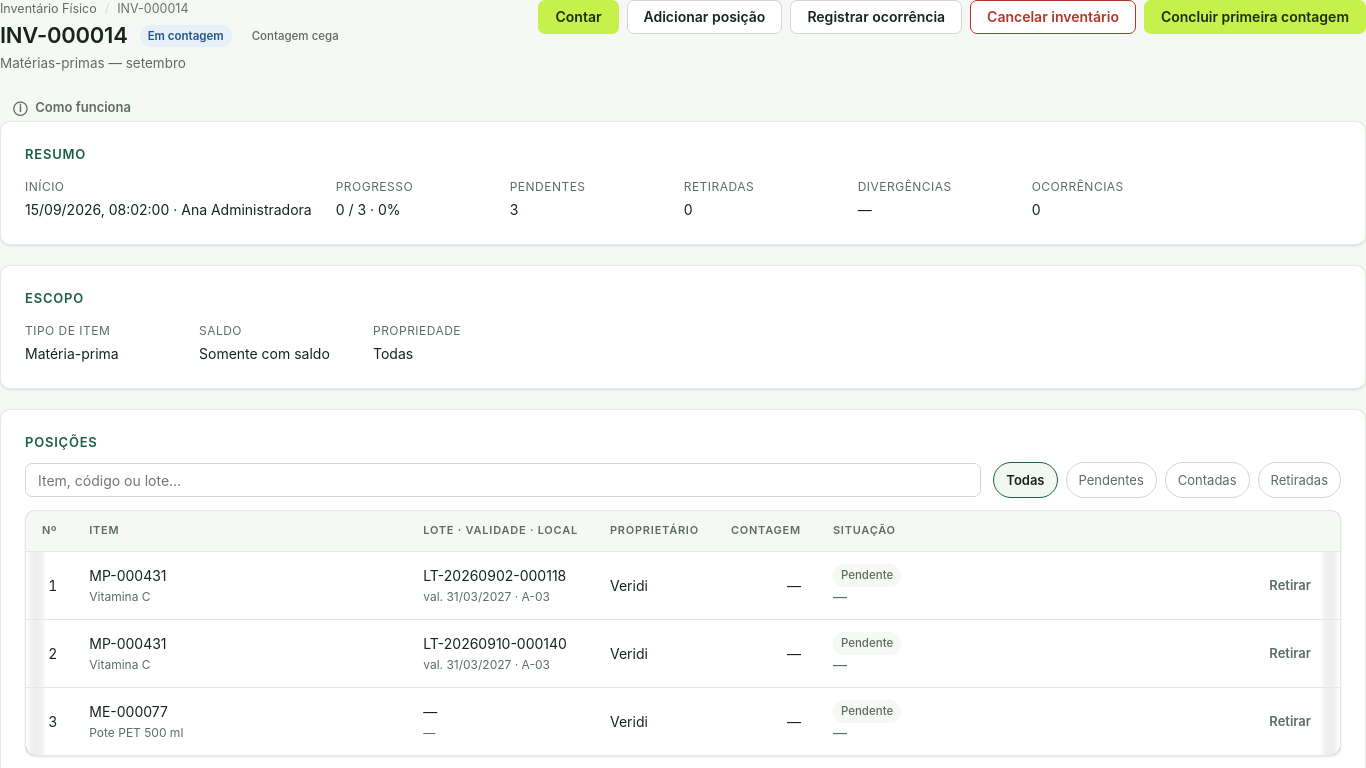
Test: detalhe do inventário — ocorrência, cancelar e concluir › cancelar explica o que acontece, exige motivo e deixa somente leitura
This screenshot has width=1366, height=768.
Click the button "Cancelar inventário" at (1053, 17), box [970, 0, 1136, 34]
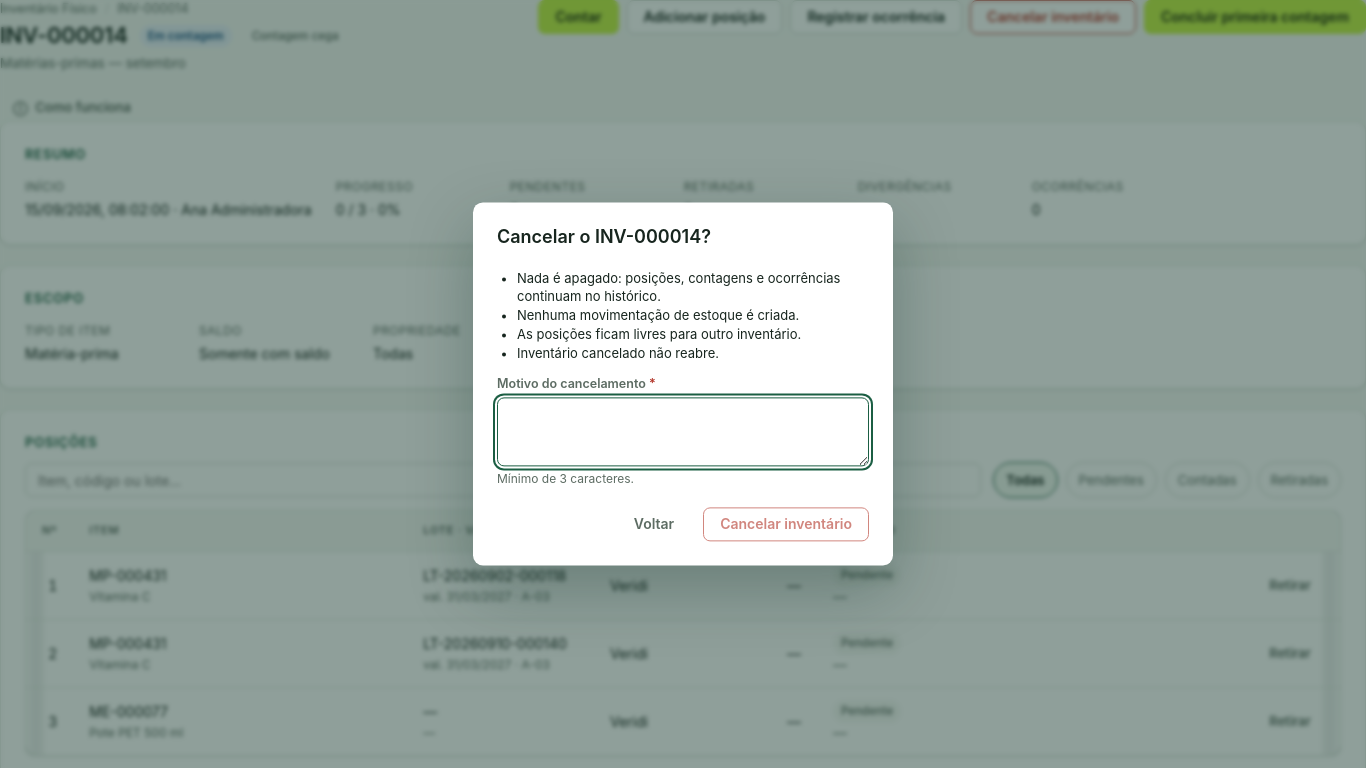
Check: the dialog shows "Nada é apagado", box [517, 270, 840, 305]
Check: the dialog shows "Nenhuma movimentação de estoque é criada.", box [517, 308, 799, 324]
Check: the dialog shows "As posições ficam livres para outro inventário.", box [517, 326, 801, 342]
Type "Escopo errado" into the text box labelled "Motivo do cancelamento *" at (683, 432), box [497, 397, 869, 466]
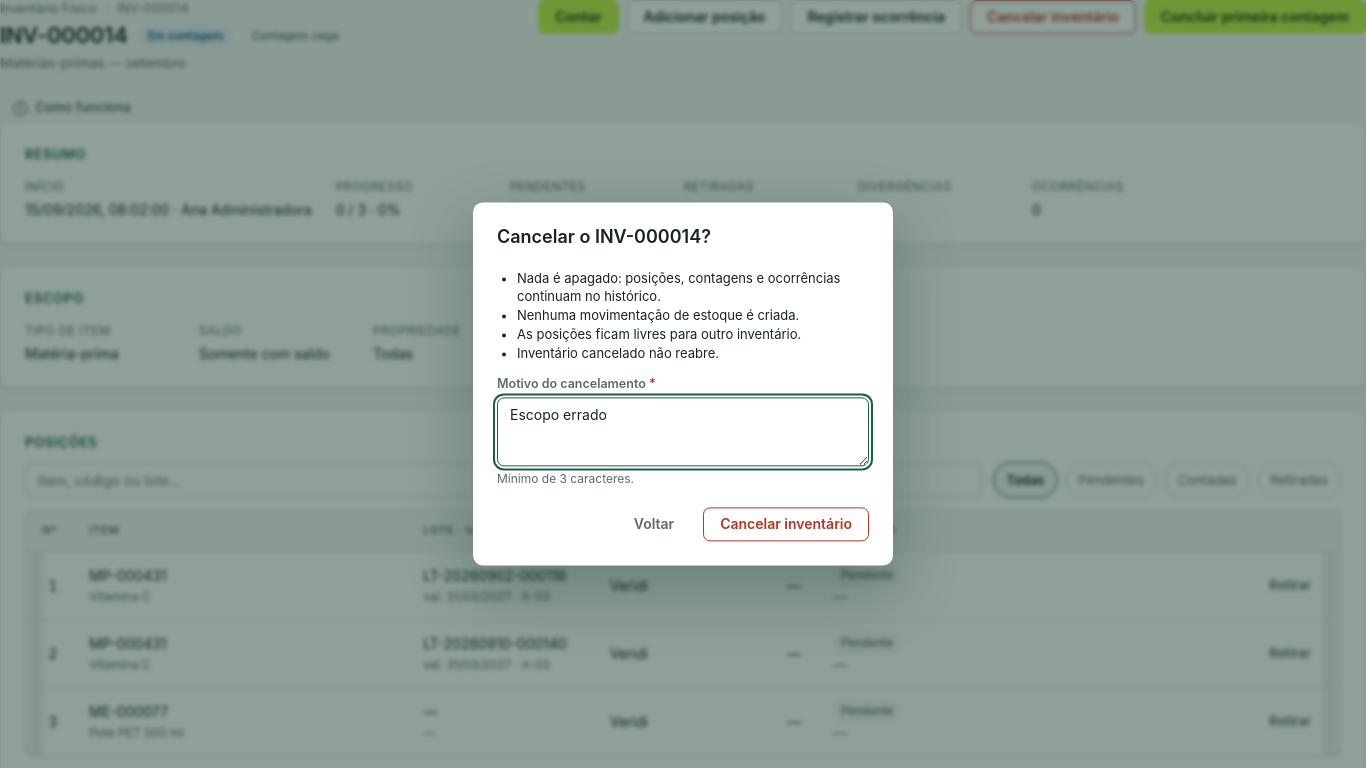
Click the button "Cancelar inventário" at (786, 525), box [703, 508, 869, 542]
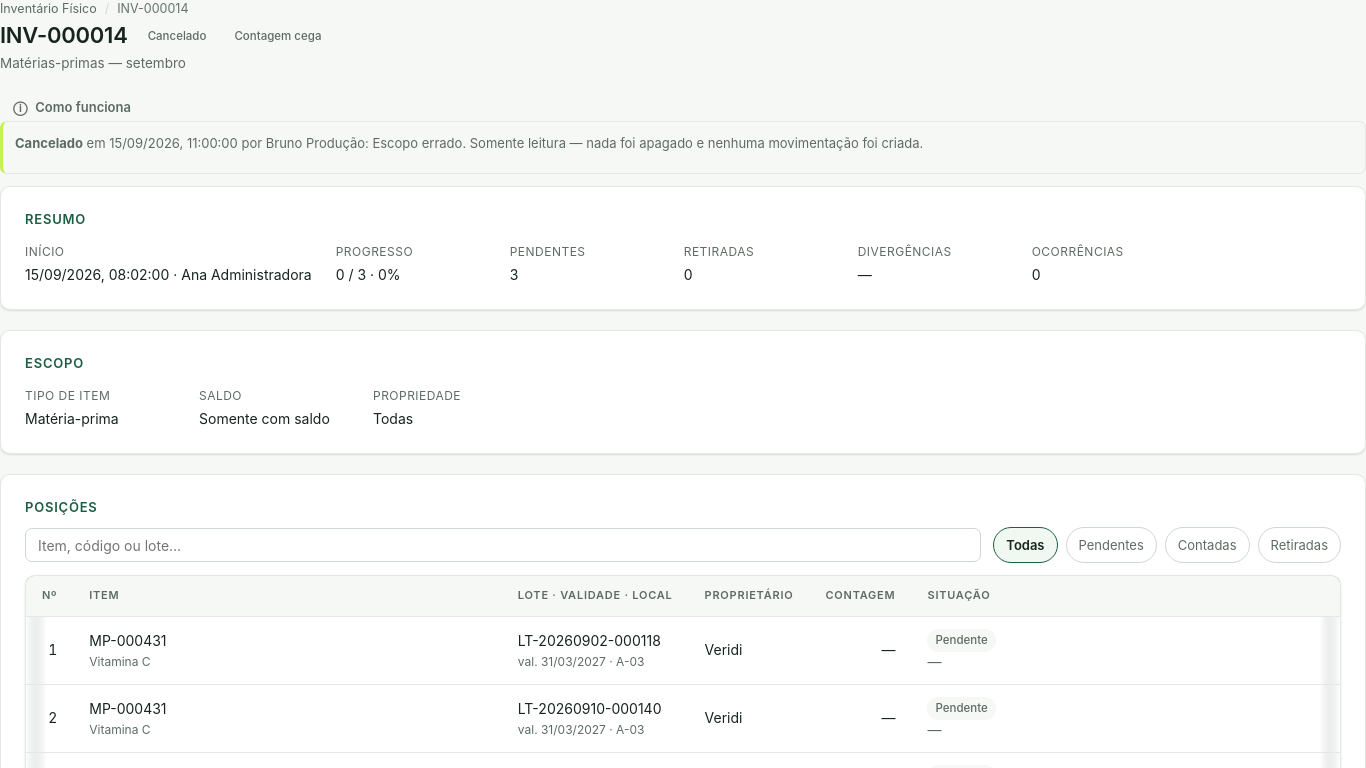
Check: the text "Somente leitura — nada foi apagado" is shown, box [462, 135, 923, 151]
Check: the button "Cancelar inventário" is gone
Check: the link "Contar" is gone
